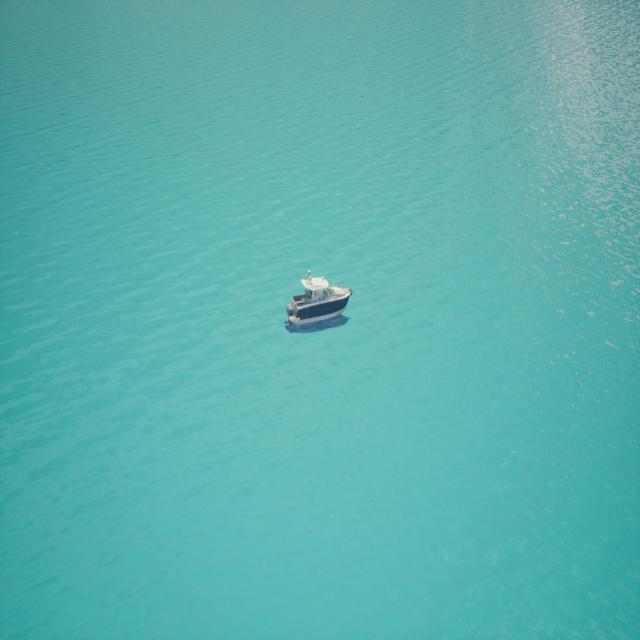ship: (286, 271, 350, 332)
